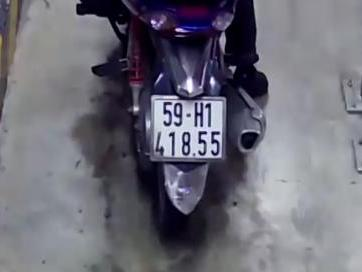num_plate: (150, 96, 224, 160)
